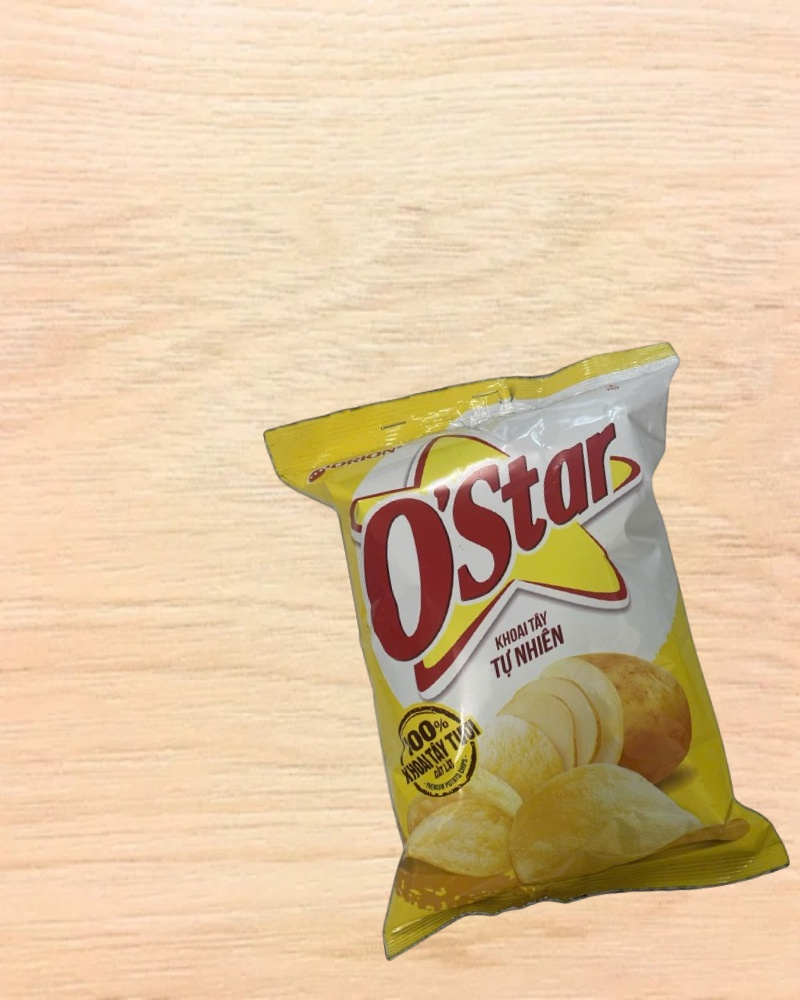O'star: (262, 337, 794, 966)
